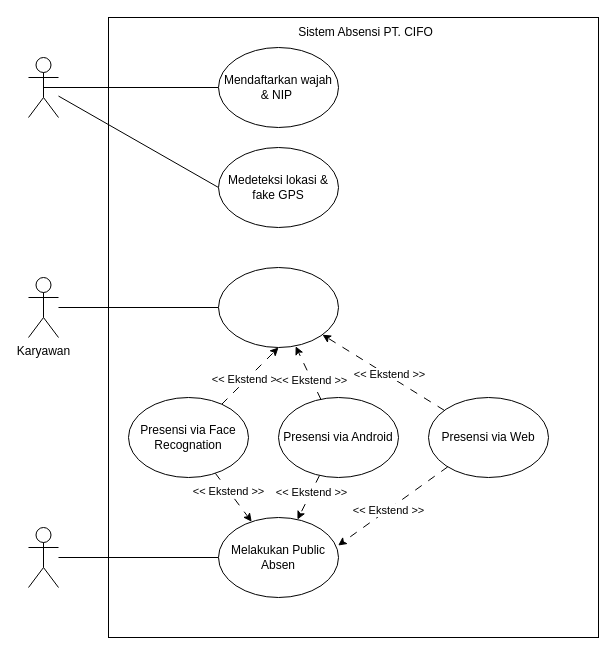
Image size: 616x655. Some labels were removed from this diagram. Each missing label, with the centre of its shape:
HR: [43,87]
Melakukan Presensi: [278,307]
Sales: [43,557]
